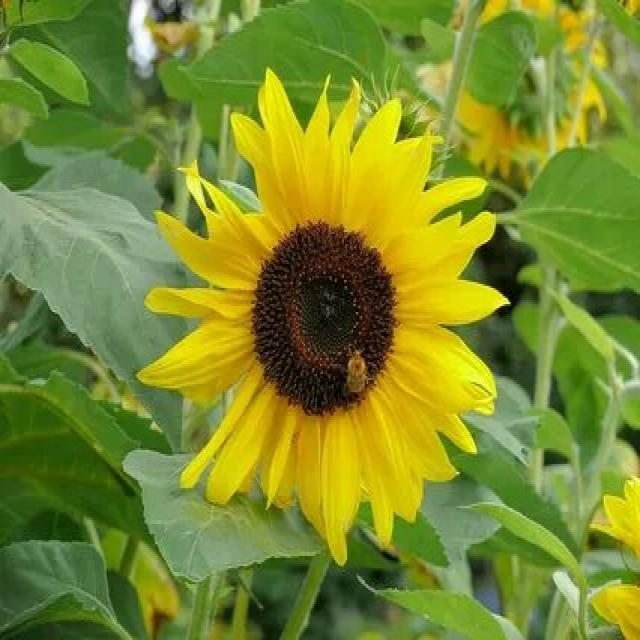sunflower: (135, 62, 508, 552)
